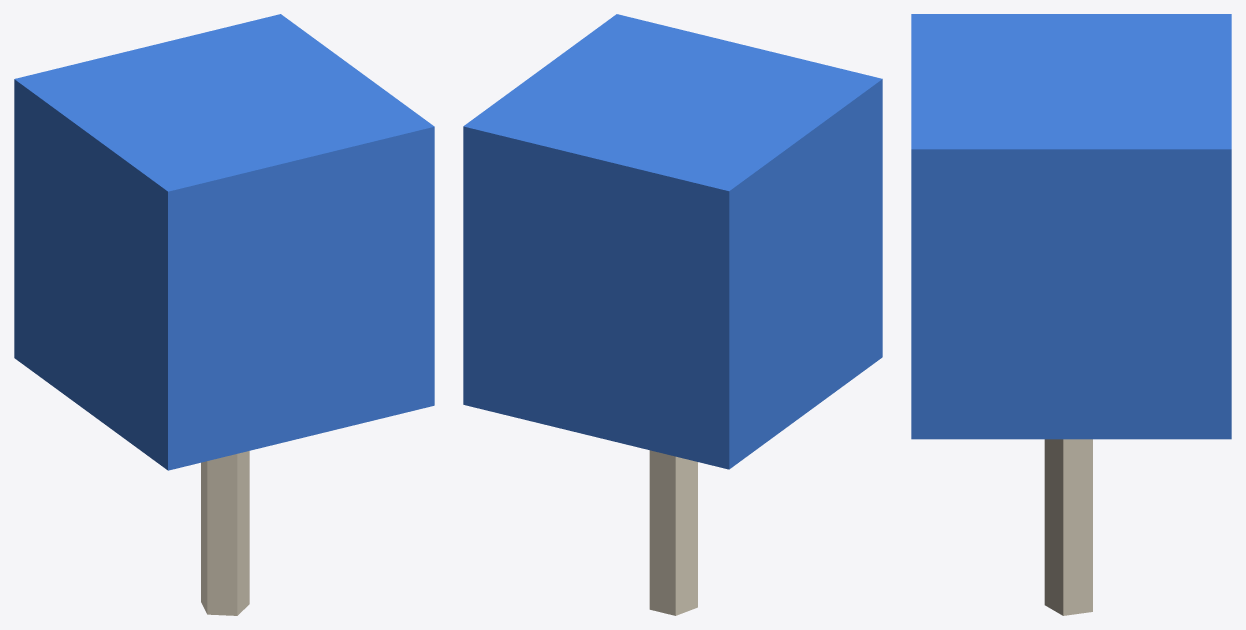
The model's file is land_tree_toy_cube_blue.glb.
3 views of the same model, side by side, from view 1: azimuth 30°, elevation 25°; view 2: azimuth 150°, elevation 25°; view 3: azimuth 270°, elevation 25° (orthographic). The views are drawn at different scales.
Bounding box in the file's own units: 3.6 × 6.5 × 3.6.
